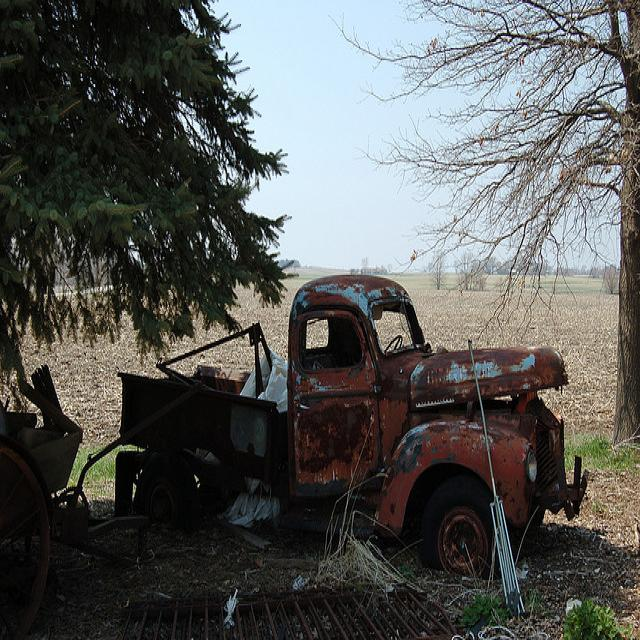Vehicle: (115, 273, 588, 578)
